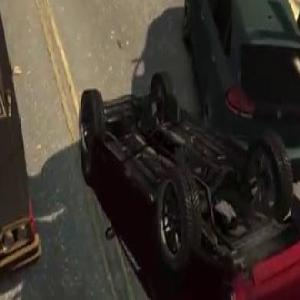critical: (77, 0, 300, 300)
